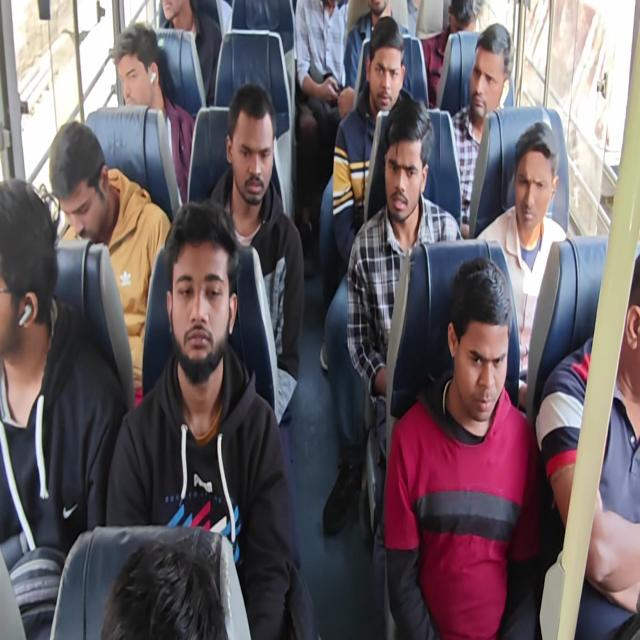person: (83, 537, 223, 640), (0, 178, 63, 362), (446, 274, 513, 438), (49, 121, 120, 241), (175, 239, 235, 372), (380, 118, 434, 227), (105, 12, 155, 112), (230, 106, 276, 202), (612, 253, 640, 409), (508, 130, 554, 224), (373, 36, 410, 113), (466, 38, 502, 114), (436, 0, 477, 63), (148, 0, 186, 24), (366, 0, 394, 27)
